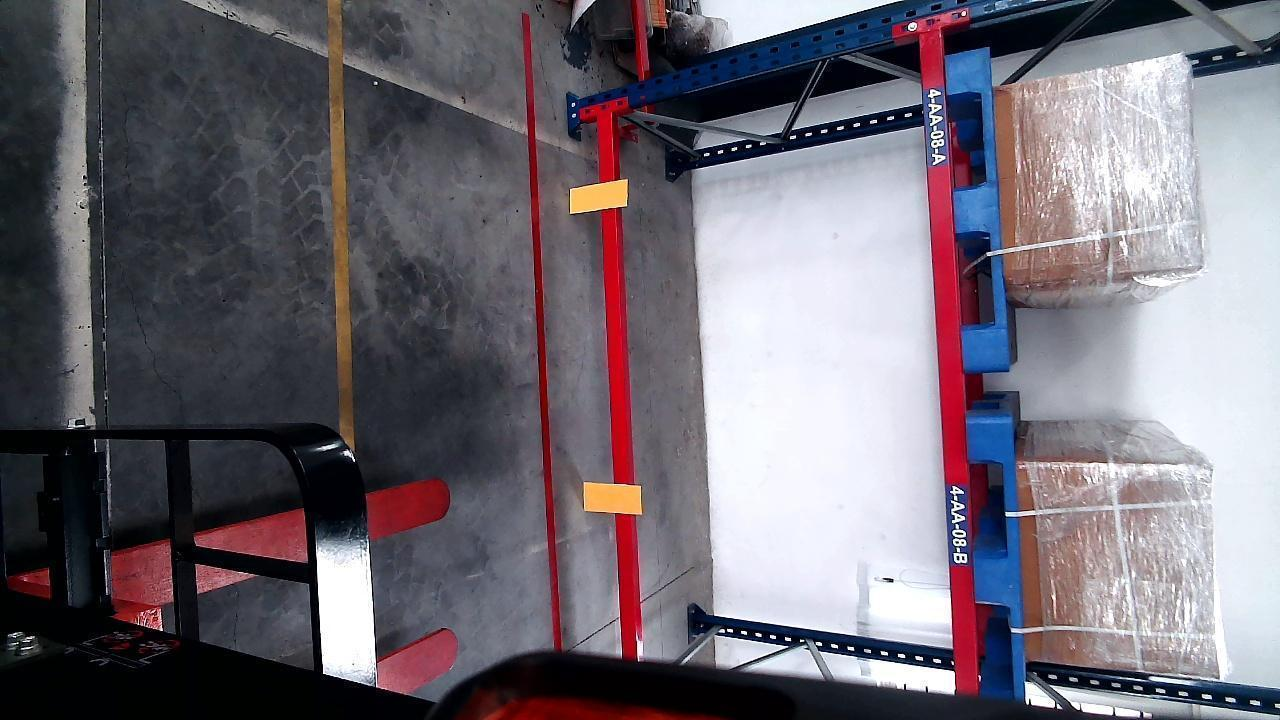red_line: (523, 11, 563, 660)
yellow_line: (329, 3, 355, 439)
